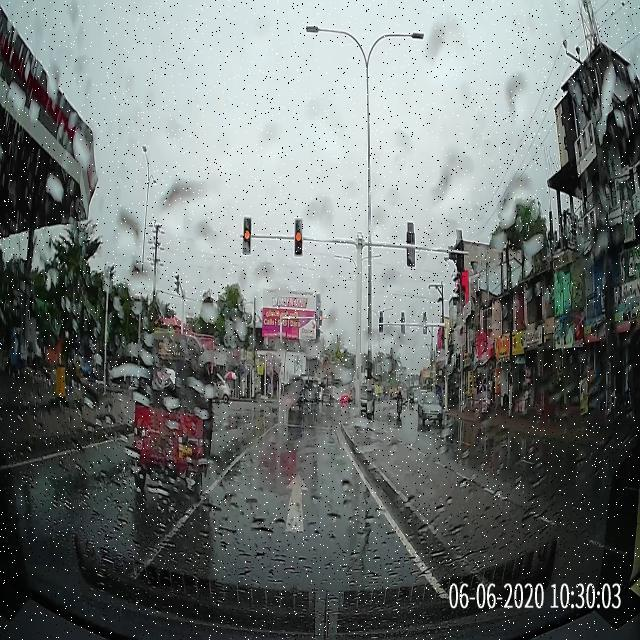forward: (165, 457, 419, 551)
